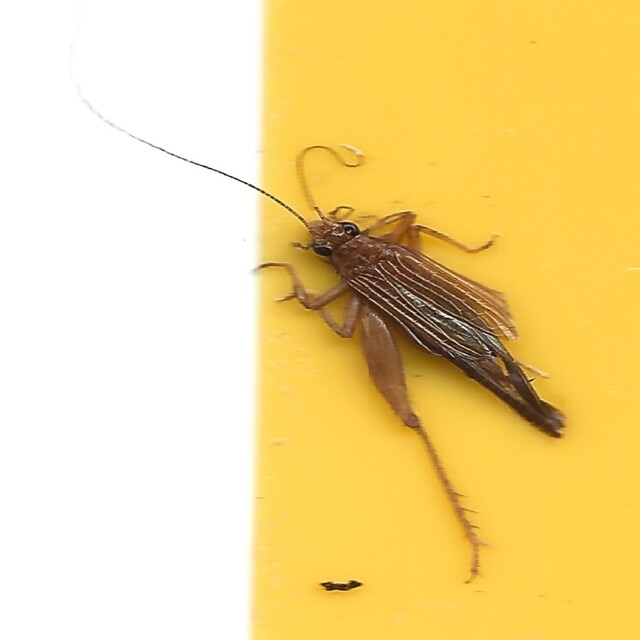Orthoptera: (71, 52, 569, 588)
